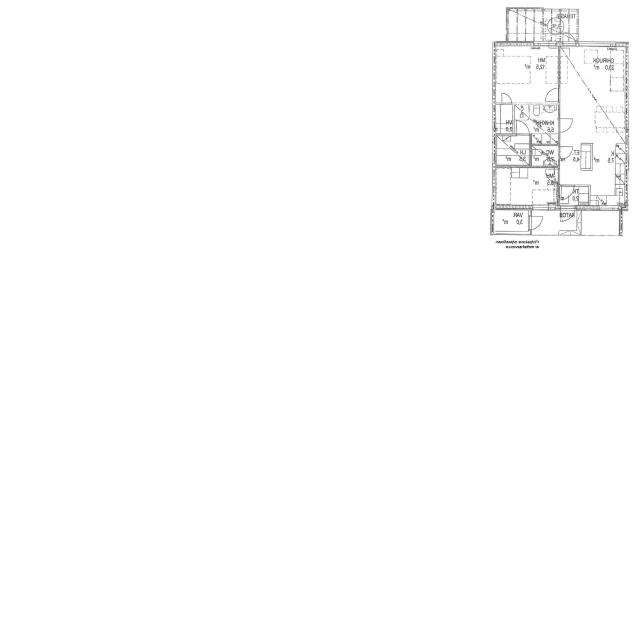door: (561, 205, 575, 225), (563, 28, 576, 47), (528, 216, 545, 230), (545, 169, 560, 183), (558, 119, 574, 132), (516, 120, 529, 136), (558, 147, 573, 160), (546, 88, 560, 101), (562, 185, 574, 200), (502, 93, 512, 105)
